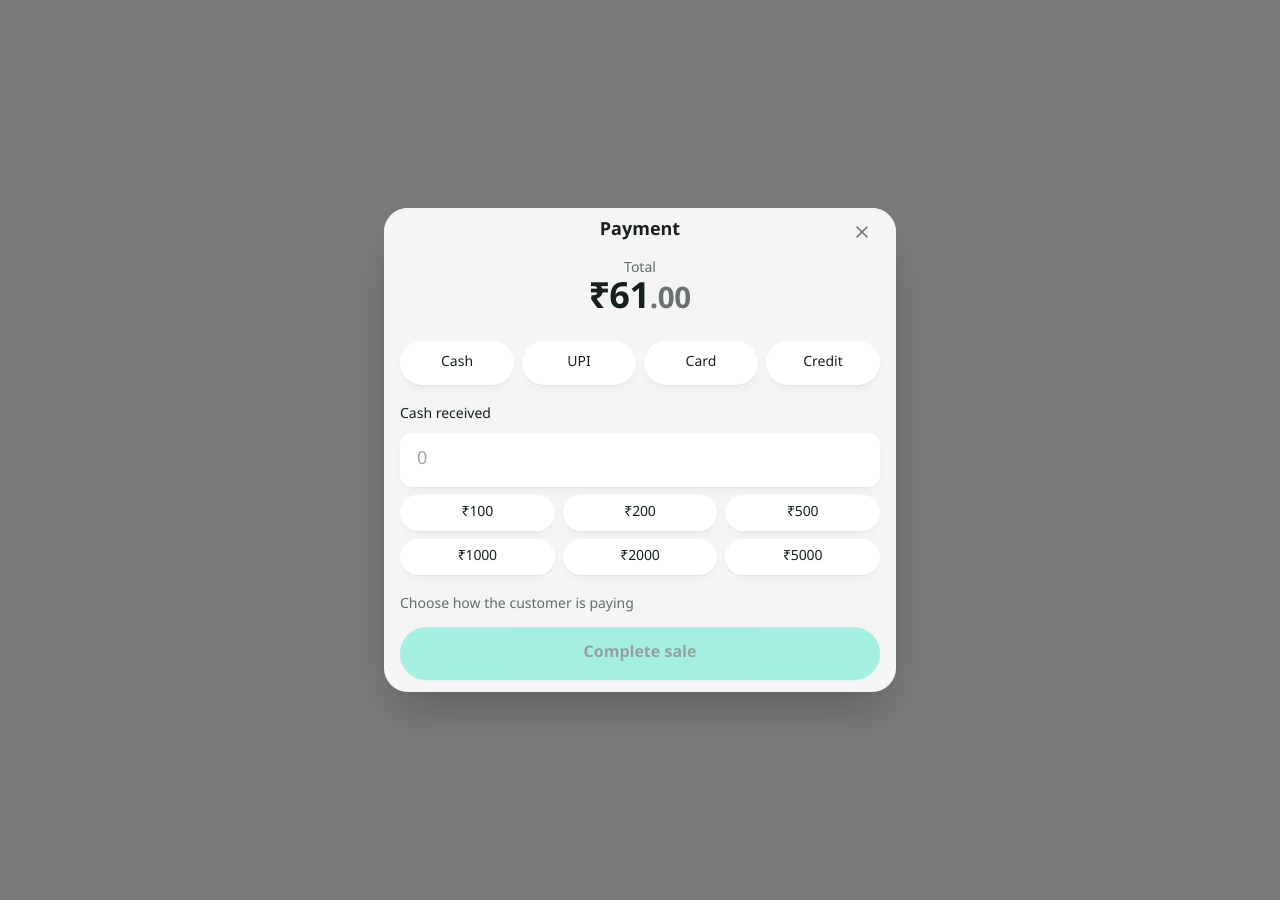
Test case: PaymentSheet — plain and split payments › offers a partial payment once an amount is tendered
Expected: the button "+ Cash" is not shown
Type "10" into the field with placeholder "0" at (640, 460), box [400, 433, 880, 487]
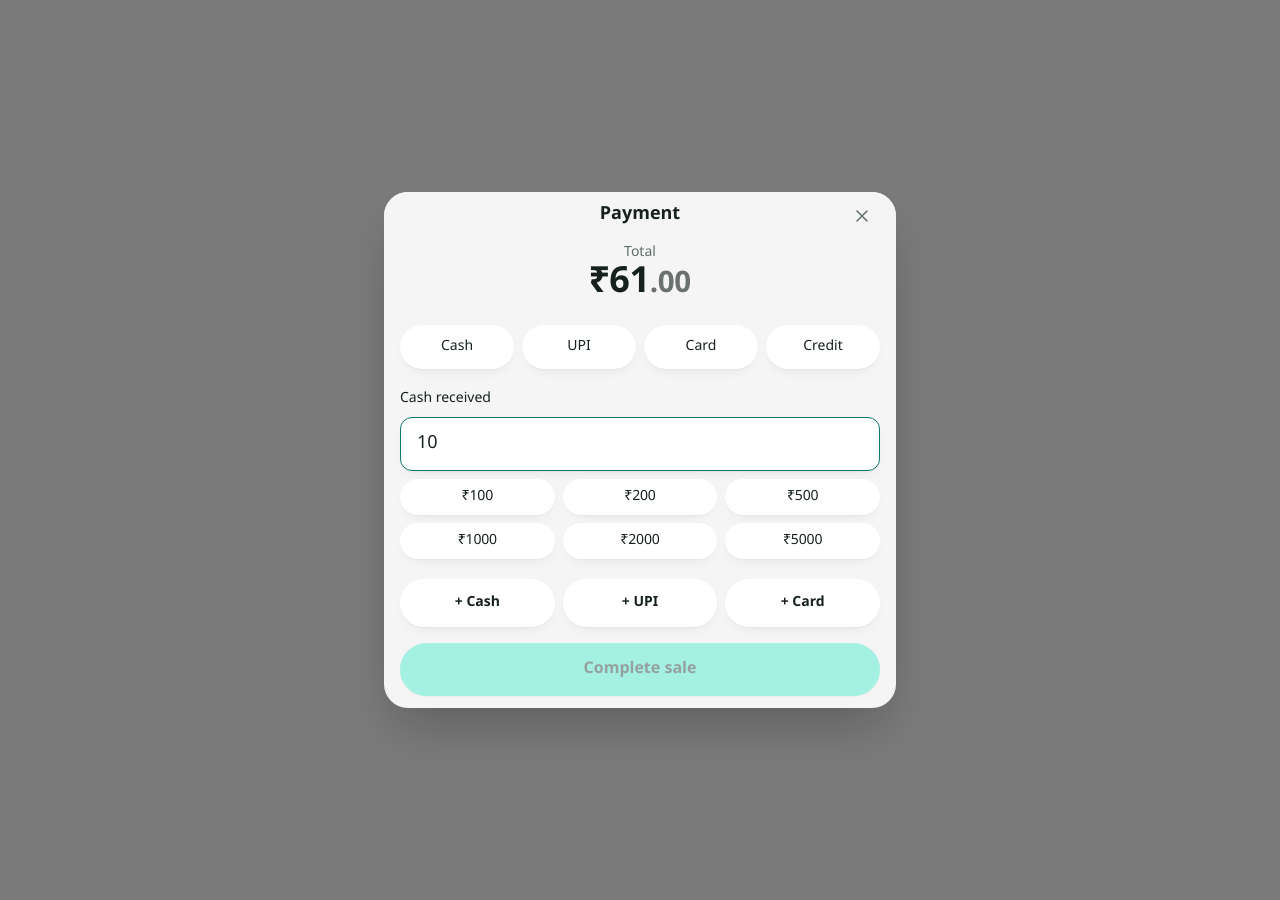
Now the button "+ Cash" is shown, box [400, 579, 555, 627]
Now the button "+ Card" is shown, box [725, 579, 880, 627]
